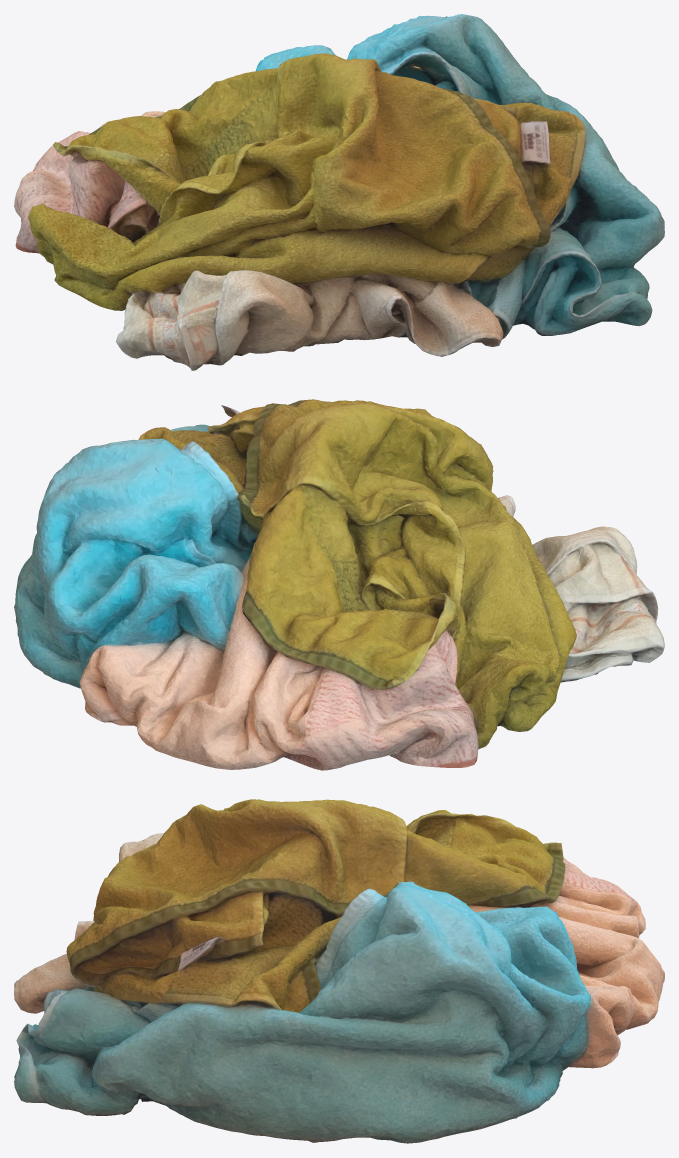
Rendered from sf-towels-iii-fa0268.glb.
3 views of the same model, one above another, from view 1: azimuth 30°, elevation 25°; view 2: azimuth 150°, elevation 25°; view 3: azimuth 270°, elevation 25° (orthographic). The views are drawn at different scales.
Visible parts, largest first — view 1: Towels_III_Towels_III_u1_v1_0; view 2: Towels_III_Towels_III_u1_v1_0; view 3: Towels_III_Towels_III_u1_v1_0.
Boxes of the visible parts, left/top/right/bottom form: Towels_III_Towels_III_u1_v1_0: left=14, top=14, right=664, bottom=370; Towels_III_Towels_III_u1_v1_0: left=14, top=399, right=664, bottom=770; Towels_III_Towels_III_u1_v1_0: left=14, top=799, right=664, bottom=1143.
Bounding box in the file's own units: 0.8137 × 0.2984 × 0.8129.
1 material, 1 textured.
